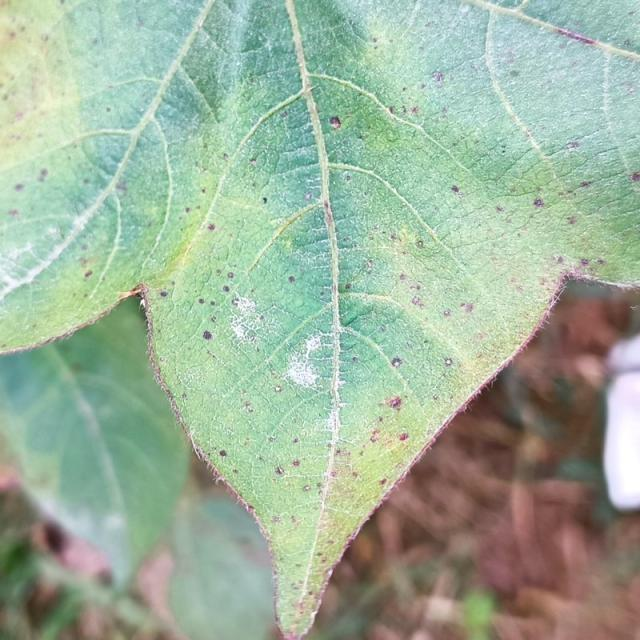Bacterial_Blight: (428, 322, 544, 454), (475, 281, 571, 410), (322, 471, 398, 587), (0, 229, 60, 298), (523, 277, 571, 335), (556, 267, 634, 302), (228, 296, 270, 345), (336, 295, 378, 328), (375, 386, 414, 418), (406, 229, 445, 259), (194, 210, 232, 240), (274, 445, 299, 488), (135, 284, 155, 335), (285, 360, 320, 389), (556, 28, 595, 46), (561, 179, 596, 198), (233, 296, 256, 314), (304, 335, 323, 355), (230, 322, 246, 339), (210, 468, 224, 487), (201, 325, 213, 344), (622, 82, 638, 95), (301, 84, 318, 96), (329, 116, 342, 129), (280, 633, 303, 640), (461, 302, 474, 314), (38, 168, 49, 182), (116, 181, 128, 193), (391, 357, 403, 368), (432, 72, 444, 83), (242, 400, 253, 411), (566, 141, 580, 149), (533, 198, 544, 208), (398, 431, 408, 441), (14, 183, 25, 192), (8, 209, 19, 218), (459, 5, 470, 14), (566, 216, 576, 225), (275, 466, 285, 475), (412, 296, 421, 306), (509, 69, 519, 78), (450, 185, 460, 193), (580, 258, 590, 266), (580, 181, 591, 188), (410, 284, 421, 291), (84, 270, 93, 278), (249, 158, 257, 167), (556, 256, 565, 264), (410, 106, 419, 114), (136, 18, 144, 27), (247, 504, 254, 514), (298, 603, 305, 613), (292, 459, 300, 467), (304, 192, 312, 200), (370, 435, 378, 443), (91, 37, 99, 45), (274, 385, 282, 393), (495, 205, 504, 212), (388, 106, 395, 115), (597, 259, 606, 266), (272, 516, 281, 523), (623, 39, 632, 46), (634, 172, 640, 182), (324, 201, 330, 211), (219, 450, 227, 457), (222, 285, 230, 292), (227, 272, 235, 279), (160, 290, 168, 297), (379, 478, 387, 485), (443, 310, 451, 317), (399, 273, 407, 280), (445, 358, 452, 366), (281, 110, 288, 118), (303, 484, 311, 491), (222, 152, 229, 160), (232, 298, 239, 306), (288, 276, 295, 283), (292, 437, 299, 444), (345, 283, 352, 290), (352, 356, 359, 363), (268, 436, 275, 443), (345, 174, 351, 182), (326, 540, 334, 546), (198, 298, 205, 304), (417, 240, 423, 247), (185, 207, 191, 214), (211, 315, 217, 322), (262, 197, 268, 204), (352, 471, 358, 478), (316, 482, 323, 488), (321, 557, 328, 563), (316, 551, 323, 557), (295, 562, 302, 568), (210, 300, 216, 306), (181, 393, 187, 399), (372, 37, 378, 43), (433, 395, 439, 401), (423, 338, 429, 344), (201, 187, 206, 194), (232, 469, 238, 474), (307, 590, 313, 595), (106, 107, 111, 112)
Cotton: (0, 0, 639, 635)
